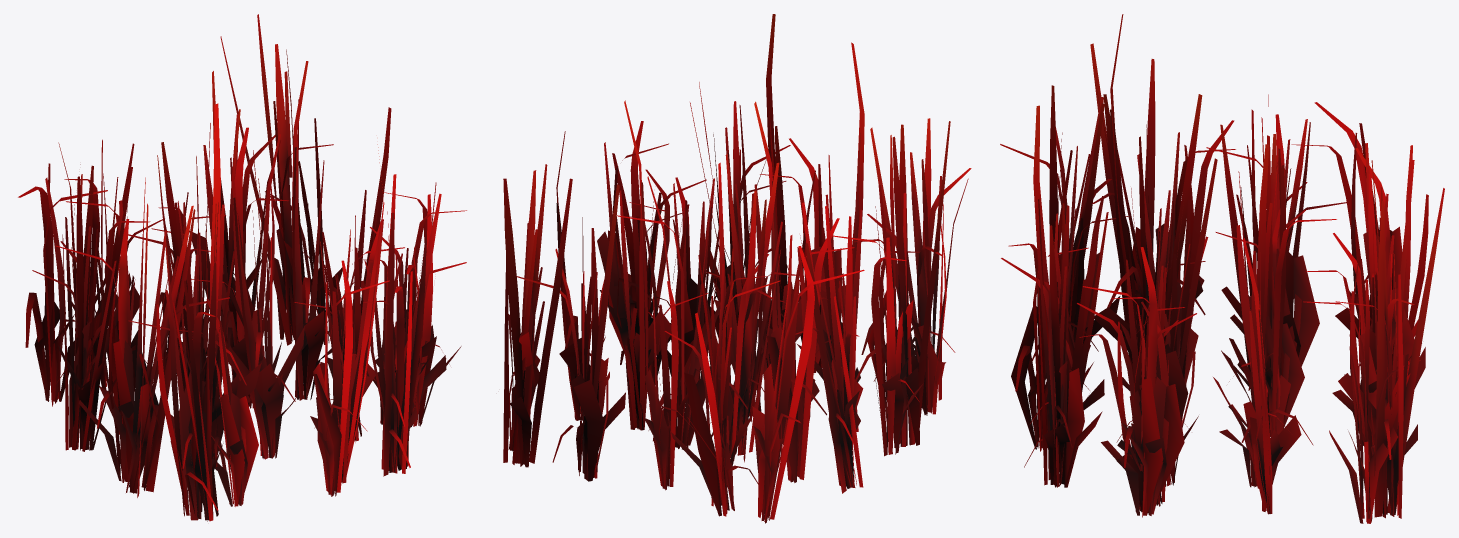
File: SM_Rice_2.fbx
The picture shows the model from 3 angles, left to right: view 1: azimuth 30°, elevation 25°; view 2: azimuth 150°, elevation 25°; view 3: azimuth 270°, elevation 25°; orthographic projection. The views are drawn at different scales.
Visible parts, largest first — view 1: SM_Rice_2; view 2: SM_Rice_2; view 3: SM_Rice_2.
Part boxes in pixels (box(x1,y1,x2,y2)): SM_Rice_2: box(18, 14, 466, 521); SM_Rice_2: box(503, 14, 971, 523); SM_Rice_2: box(1000, 14, 1444, 523).
Bounding box in the file's own units: 1.21 × 1.27 × 1.29.
